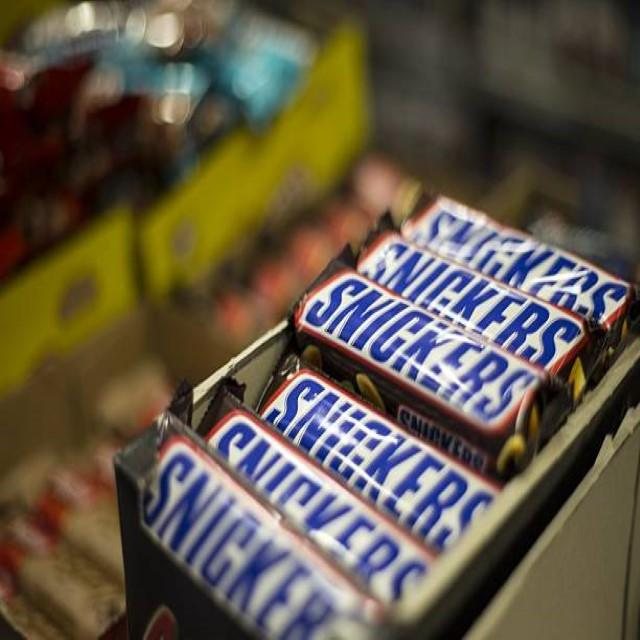snickers_chocolate: (300, 250, 540, 450), (268, 335, 470, 525), (200, 410, 395, 577), (422, 190, 638, 327), (380, 238, 575, 384)
